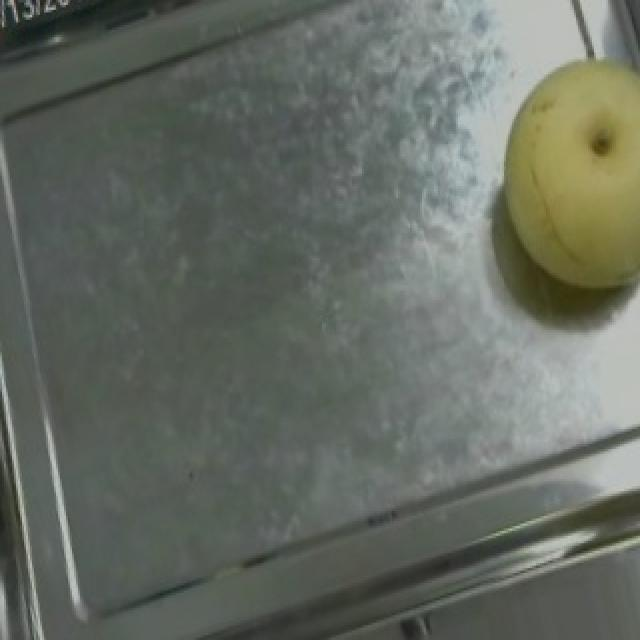Fruit: (460, 25, 640, 325)
